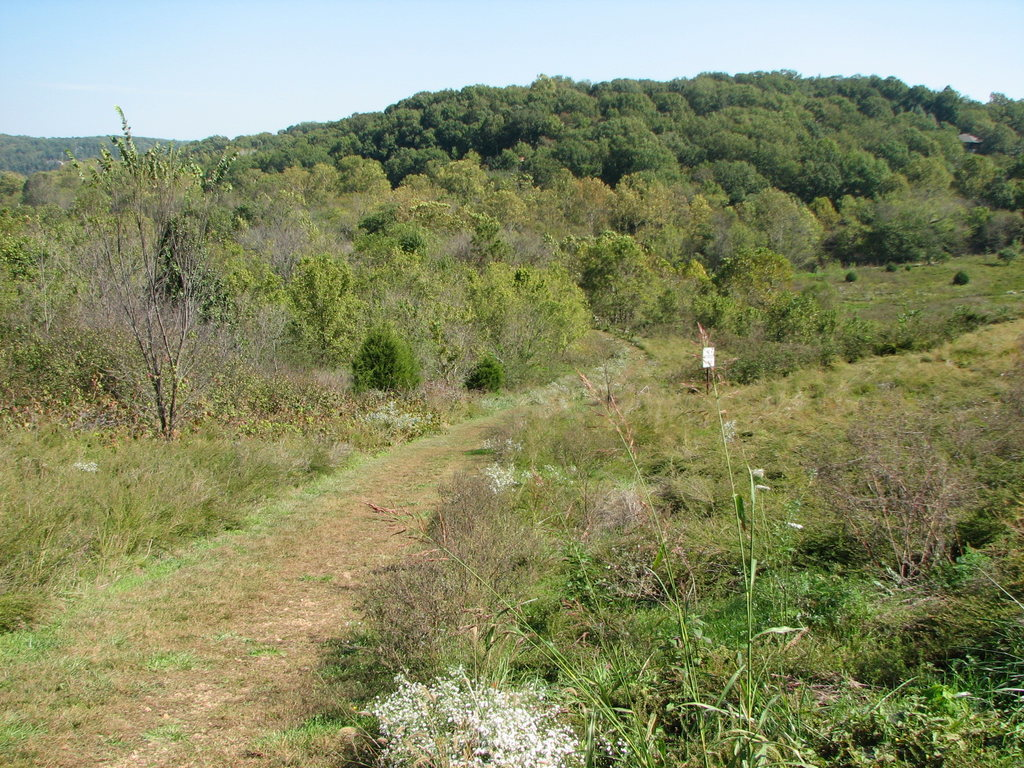Tree: (0, 67, 1024, 448)
